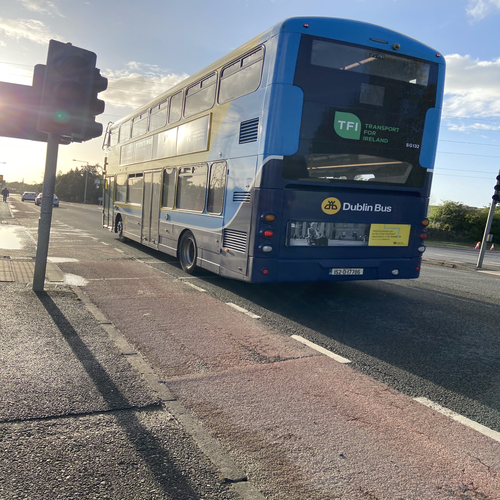Bus: (107, 7, 427, 290)
Traffic Light: (43, 31, 103, 143)
